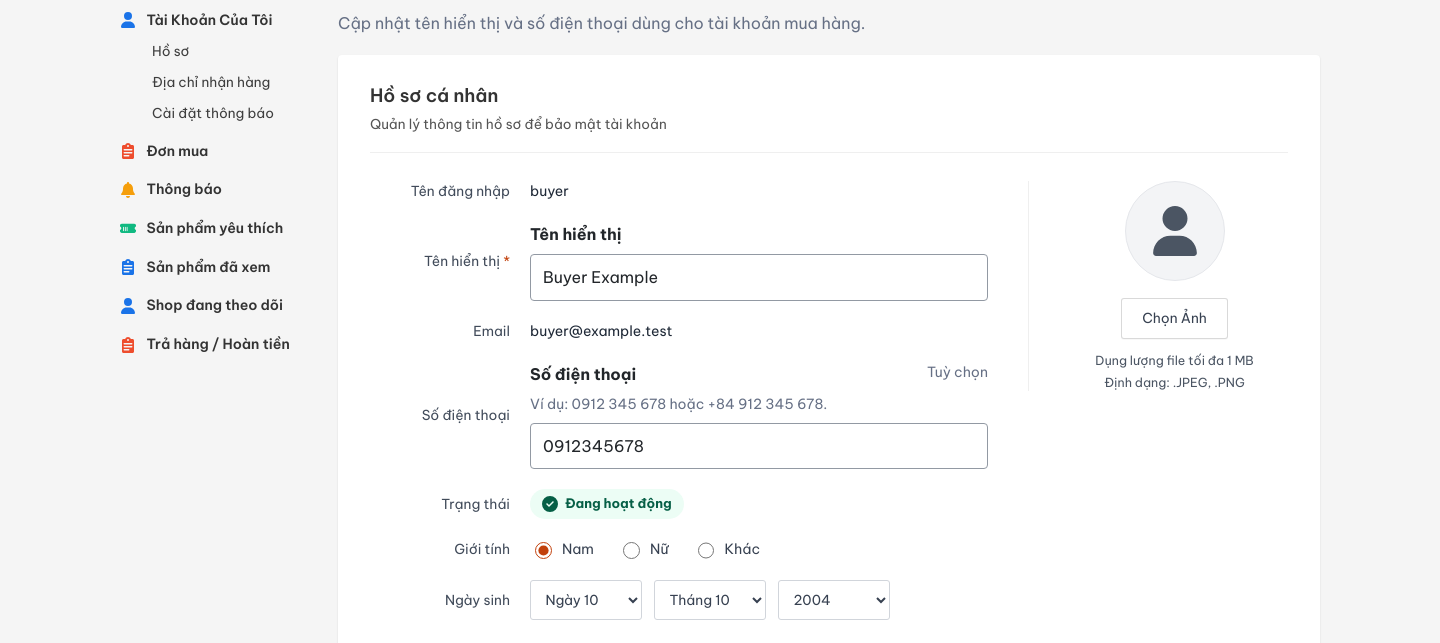
account management experiences › shows read-only identity fields, validates phone, and synchronizes only the display name
Check: the text "buyer@example.test" is shown, box [530, 322, 672, 340]
Check: the text "Đang hoạt động" is shown, box [565, 494, 672, 514]
Replace the text in the field labelled "Tên hiển thị" with "Buyer Updated" at (759, 277), box [530, 254, 988, 301]
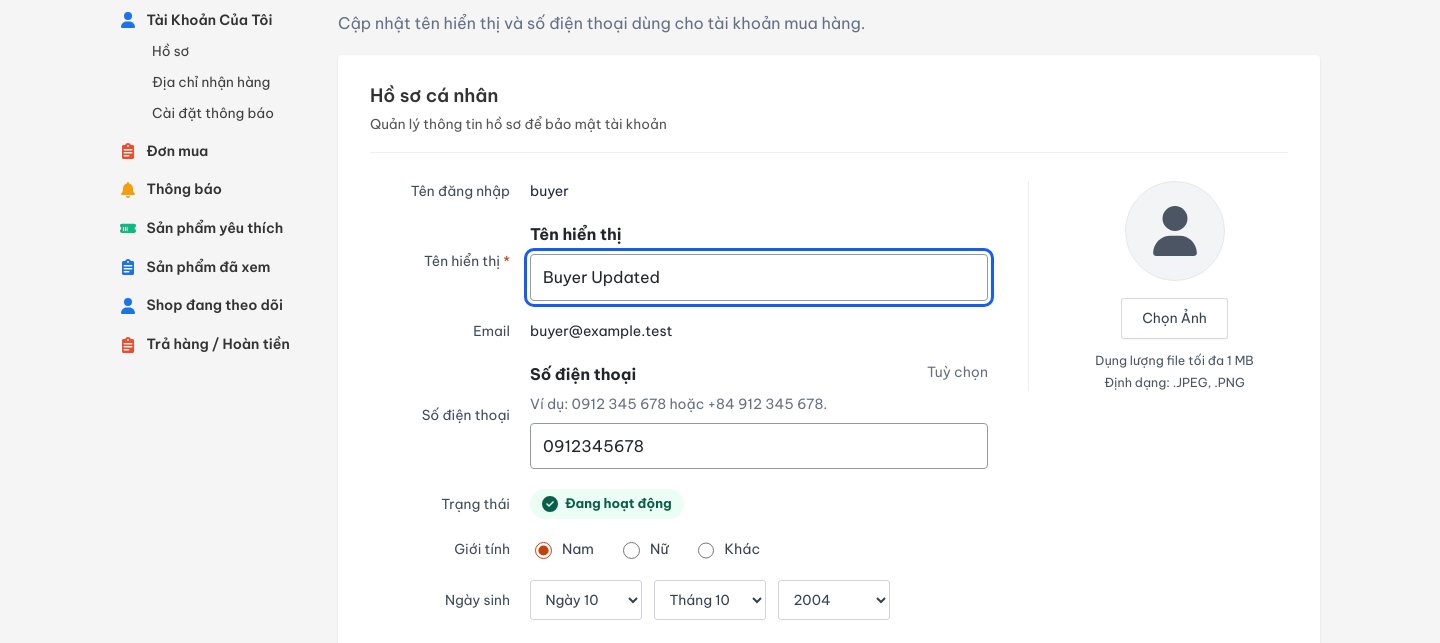
Replace the text in the field labelled "Số điện thoại Tuỳ chọn" with "+84 911 111 111" at (759, 446), box [530, 423, 988, 470]
(page scrolled)
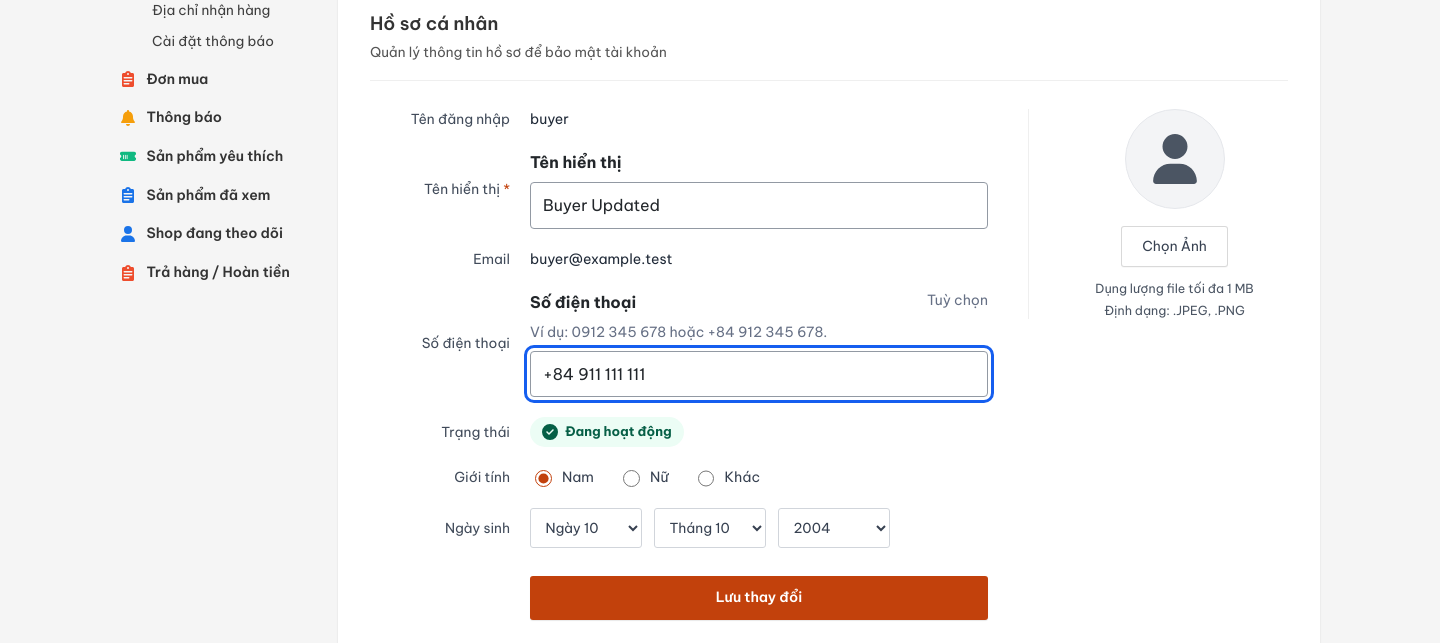
Click the button "Lưu thay đổi" at (759, 598), box [530, 576, 988, 620]
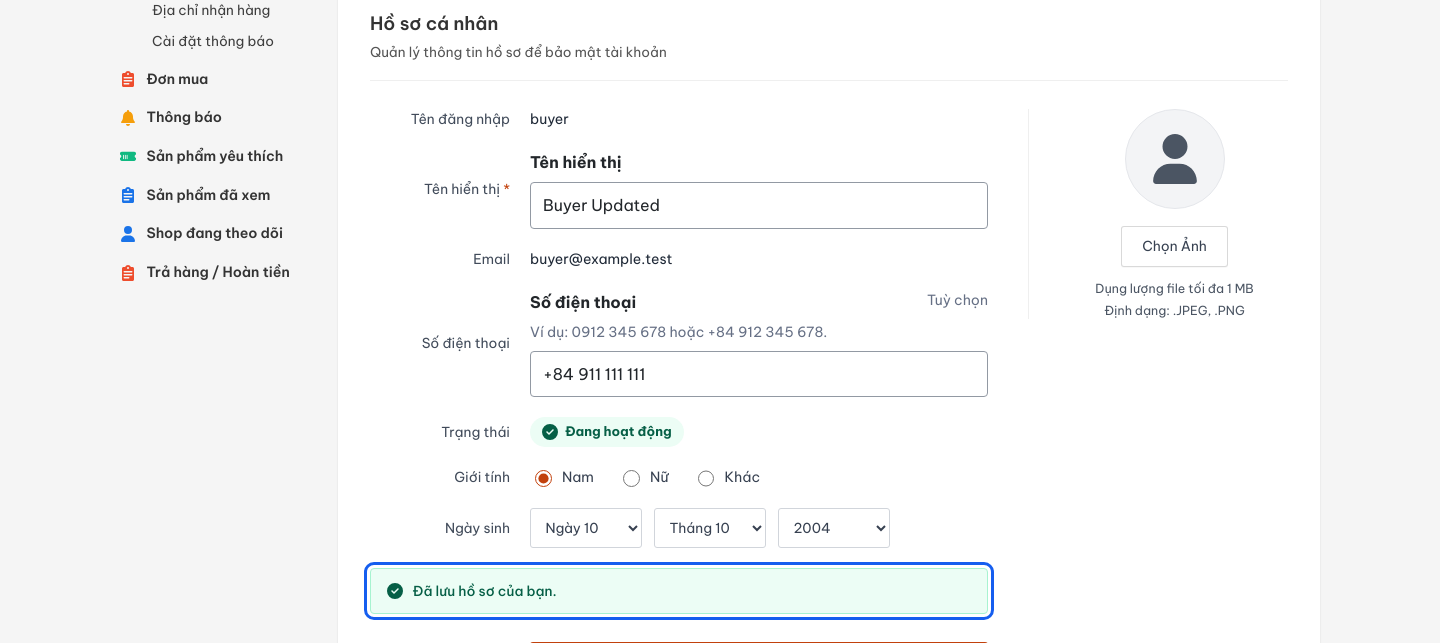
Check: the message shows "Đã lưu hồ sơ", box [413, 582, 557, 600]
